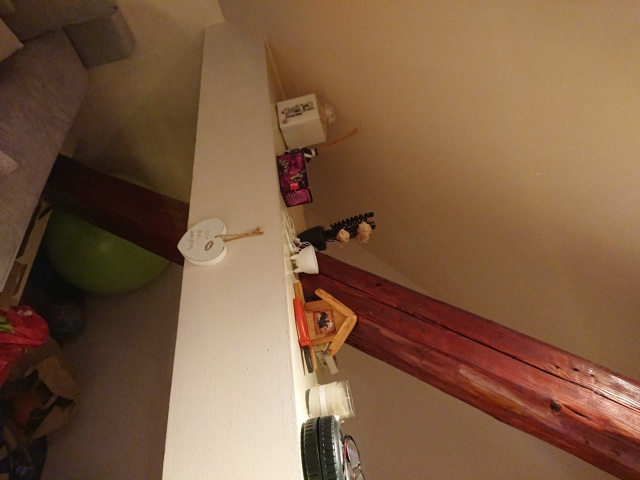Franck Black Currant Tea 60g: (273, 149, 315, 209)
